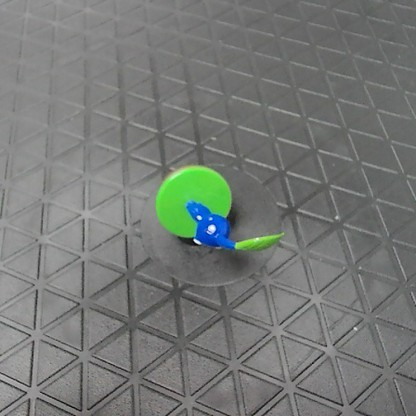leafairy: (152, 158, 287, 259)
